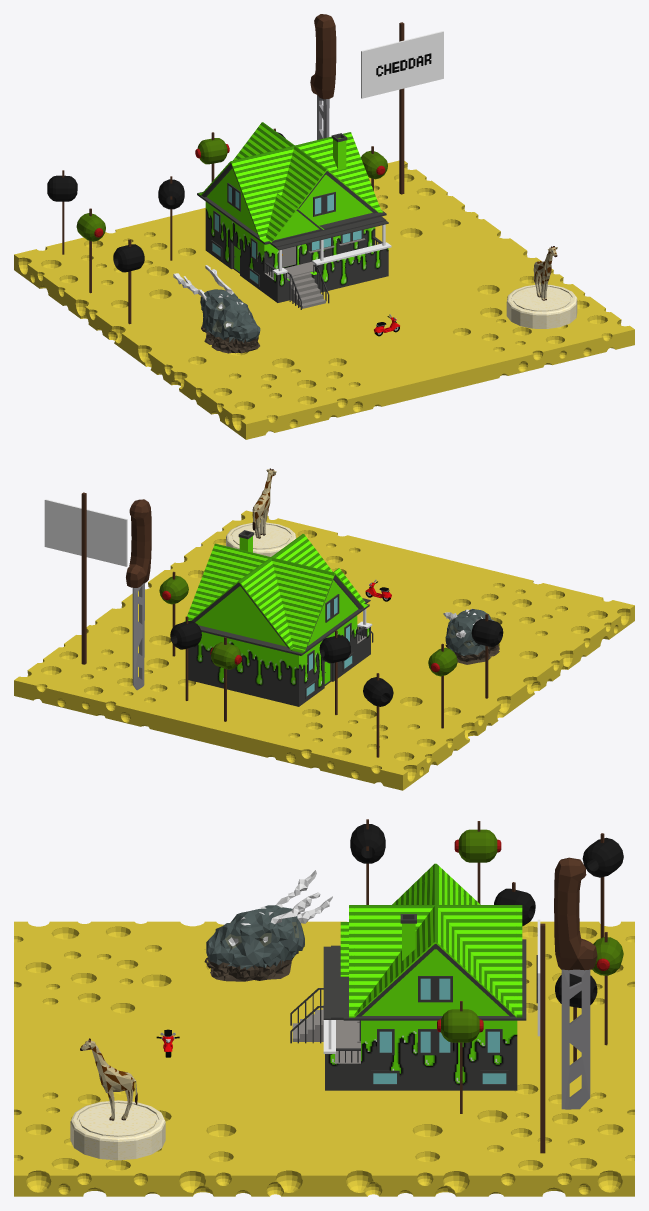
3 renders of one model, top to bottom at view 1: azimuth 30°, elevation 25°; view 2: azimuth 150°, elevation 25°; view 3: azimuth 270°, elevation 25°, orthographic. The views are drawn at different scales.
Parts seen in each view (by area): view 1: Cube.022, Cube.754, Cube.023, OBJRANDOM_METEORITE, Cylinder.016, Cube.024, Sphere.017, Sphere.016, Sphere.020, Sphere.018, Sphere.022, ANIMAL_JIRAFA (+1 smaller); view 2: Cube.022, Cube.754, Cube.023, Cube.024, OBJRANDOM_METEORITE, Cylinder.016, Sphere.017, Sphere.021, Sphere.016, Sphere.020, Sphere.022, Sphere.018 (+2 smaller); view 3: Cube.022, Cube.754, Cube.024, OBJRANDOM_METEORITE, Cylinder.016, Cube.023, Sphere.016, Sphere.019, ANIMAL_JIRAFA, Sphere.018, Sphere.017, Sphere.022 (+2 smaller).
Boxes of the visible parts, x1=… form: Cube.022: x1=14, y1=160, x2=634, y2=439; Cube.754: x1=197, y1=122, x2=391, y2=309; Cube.023: x1=361, y1=22, x2=443, y2=194; OBJRANDOM_METEORITE: x1=173, y1=265, x2=260, y2=353; Cylinder.016: x1=506, y1=284, x2=577, y2=328; Cube.024: x1=310, y1=14, x2=336, y2=139; Sphere.017: x1=113, y1=239, x2=144, y2=324; Sphere.016: x1=47, y1=170, x2=77, y2=254; Sphere.020: x1=158, y1=176, x2=184, y2=260; Sphere.018: x1=76, y1=208, x2=105, y2=293; Sphere.022: x1=195, y1=132, x2=229, y2=181; ANIMAL_JIRAFA: x1=533, y1=246, x2=557, y2=300; Cube.022: x1=14, y1=510, x2=634, y2=790; Cube.754: x1=184, y1=530, x2=373, y2=706; Cube.023: x1=44, y1=492, x2=127, y2=664; Cube.024: x1=126, y1=499, x2=151, y2=690; OBJRANDOM_METEORITE: x1=443, y1=608, x2=499, y2=664; Cylinder.016: x1=226, y1=522, x2=296, y2=556; Sphere.017: x1=471, y1=614, x2=503, y2=698; Sphere.021: x1=170, y1=616, x2=201, y2=700; Sphere.016: x1=363, y1=673, x2=393, y2=757; Sphere.020: x1=319, y1=630, x2=350, y2=714; Sphere.022: x1=210, y1=637, x2=241, y2=721; Sphere.018: x1=428, y1=643, x2=457, y2=728; Cube.022: x1=14, y1=921, x2=634, y2=1196; Cube.754: x1=290, y1=863, x2=526, y2=1090; Cube.024: x1=554, y1=857, x2=597, y2=1109; OBJRANDOM_METEORITE: x1=204, y1=870, x2=332, y2=981; Cylinder.016: x1=70, y1=1100, x2=165, y2=1160; Cube.023: x1=536, y1=919, x2=545, y2=1153; Sphere.016: x1=582, y1=833, x2=623, y2=937; Sphere.019: x1=437, y1=1001, x2=483, y2=1113; ANIMAL_JIRAFA: x1=80, y1=1038, x2=137, y2=1120; Sphere.018: x1=454, y1=821, x2=501, y2=903; Sphere.017: x1=350, y1=819, x2=385, y2=904; Sphere.022: x1=592, y1=932, x2=623, y2=1045.
Size of the model in its own units: 3917 by 2108 by 4000.
37 materials, 4 textured.
